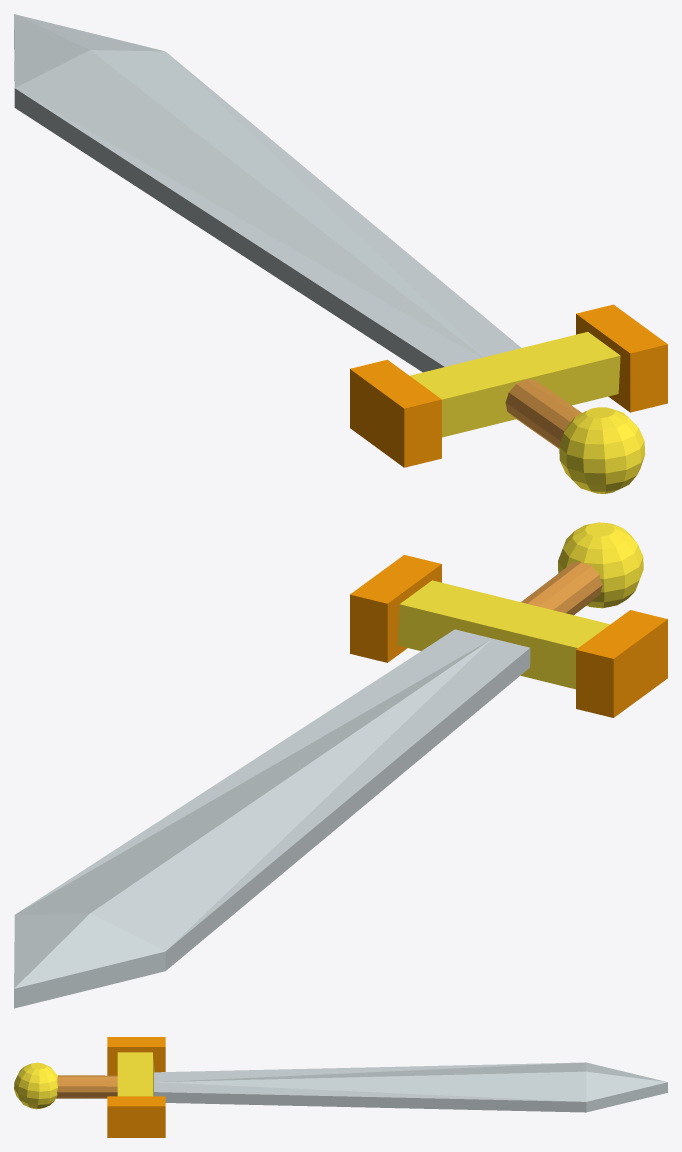
Rendered from objet-epee.glb.
3 renders of one model, top to bottom at view 1: azimuth 30°, elevation 25°; view 2: azimuth 150°, elevation 25°; view 3: azimuth 270°, elevation 25°, orthographic. The views are drawn at different scales.
Visible parts, largest first — view 1: group1031189633, group1702364196, group316964797, group256743220, group1561451791, group1325668123; view 2: group1031189633, group1702364196, group316964797, group1561451791, group256743220, group1325668123; view 3: group1031189633, group1561451791, group1702364196, group256743220, group1325668123, group316964797.
Boxes of the visible parts, x1,y1,x2,y2 form: group1031189633: [14, 14, 520, 372]; group1702364196: [410, 332, 620, 437]; group316964797: [350, 359, 441, 467]; group256743220: [559, 407, 645, 493]; group1561451791: [576, 304, 667, 412]; group1325668123: [505, 379, 581, 448]; group1031189633: [14, 629, 530, 1008]; group1702364196: [397, 580, 609, 689]; group316964797: [576, 610, 667, 717]; group1561451791: [350, 555, 441, 662]; group256743220: [558, 522, 643, 608]; group1325668123: [521, 562, 602, 615]; group1031189633: [154, 1062, 667, 1112]; group1561451791: [107, 1096, 165, 1137]; group1702364196: [117, 1052, 154, 1096]; group256743220: [14, 1062, 57, 1109]; group1325668123: [56, 1075, 117, 1098]; group316964797: [107, 1037, 165, 1075].
Size of the model in its own units: 0.14 by 0.0399 by 0.5599.
